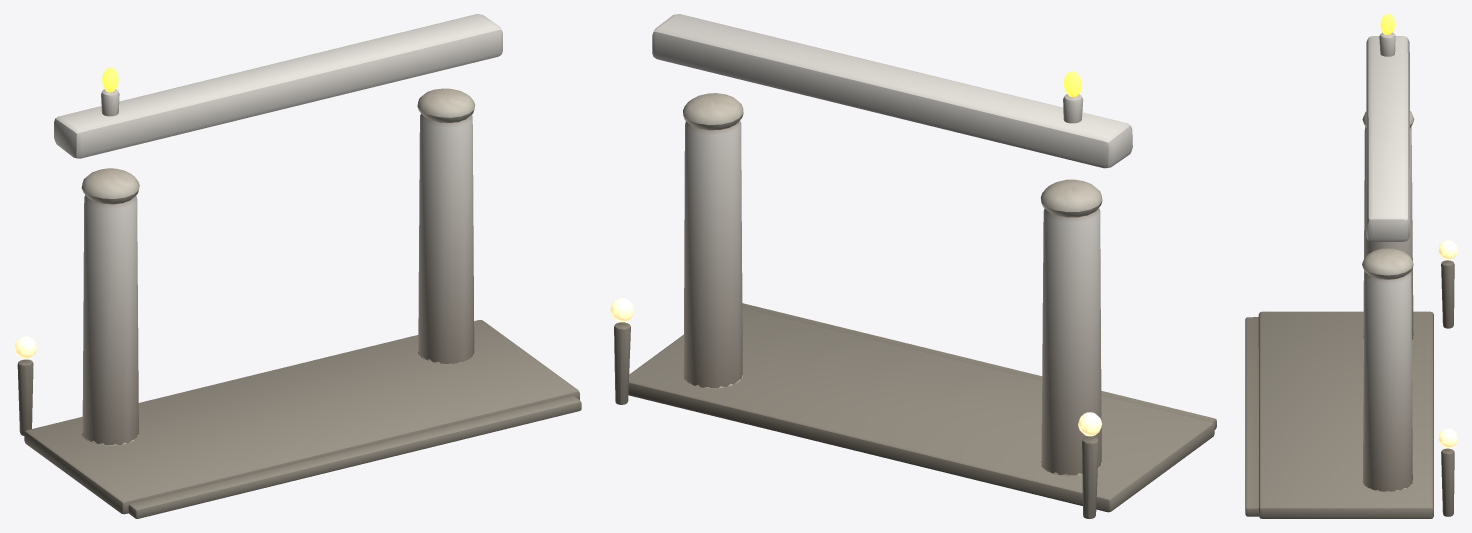
3 views of the same model, side by side, from view 1: azimuth 30°, elevation 25°; view 2: azimuth 150°, elevation 25°; view 3: azimuth 270°, elevation 25° (orthographic). The views are drawn at different scales.
Visible parts, largest first — view 1: gate_6c22cb3c; view 2: gate_6c22cb3c; view 3: gate_6c22cb3c.
Part boxes in pixels (box(x1,y1,x2,y2)): gate_6c22cb3c: box(14, 14, 581, 518); gate_6c22cb3c: box(610, 14, 1216, 518); gate_6c22cb3c: box(1245, 14, 1457, 518).
Bounding box in the file's own units: 5.6 × 4.44 × 2.55.
